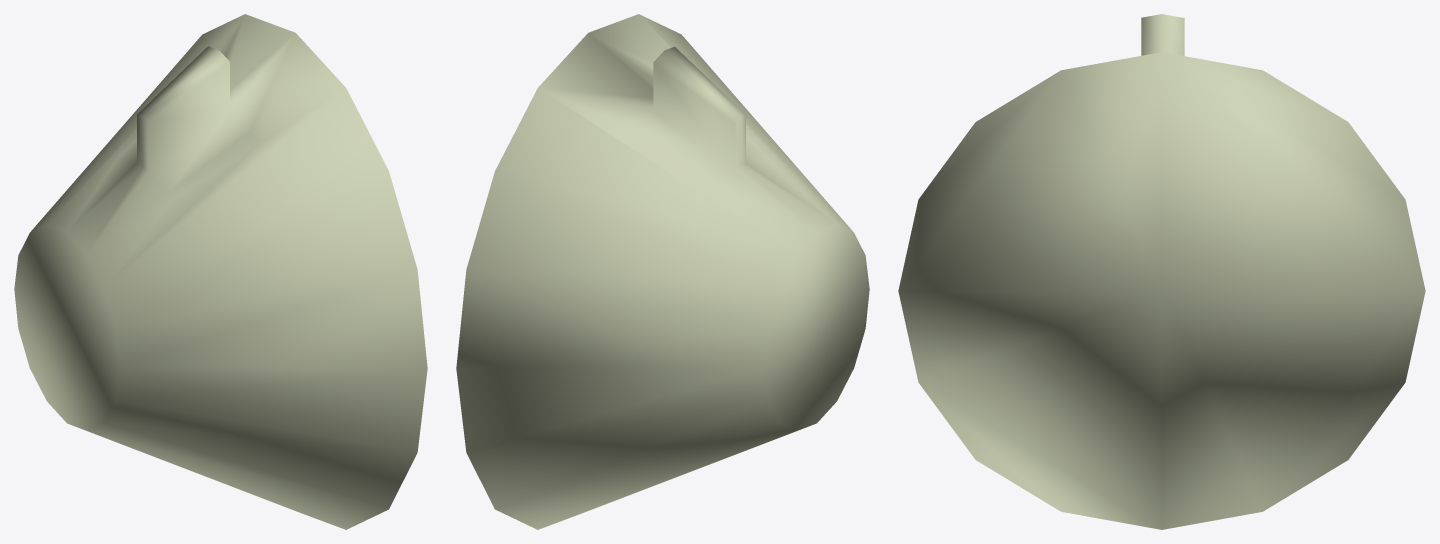
Rendered from dome.obj.
3 renders of one model, left to right at view 1: azimuth 30°, elevation 25°; view 2: azimuth 150°, elevation 25°; view 3: azimuth 270°, elevation 25°, orthographic.
Visible parts, largest first — view 1: TURRET; view 2: TURRET; view 3: TURRET.
Boxes of the visible parts, x1,y1,x2,y2 form: TURRET: (14,14,427,529); TURRET: (456,14,869,529); TURRET: (898,14,1425,529).
Size of the model in its own units: 0.7826 by 1.57 by 1.57.
